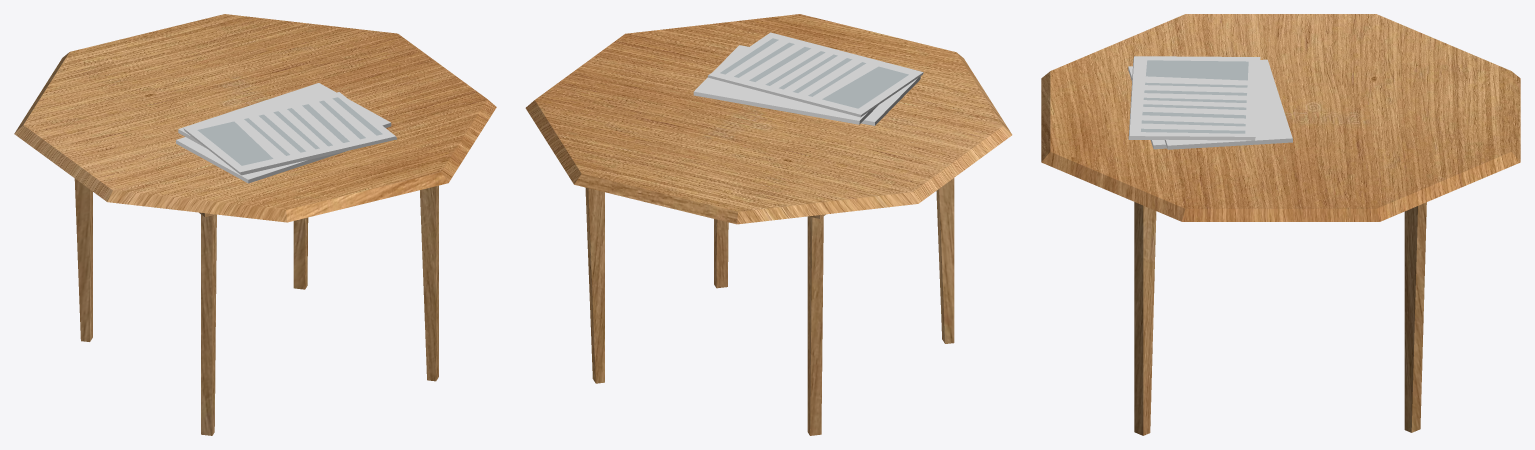
Rendered from papers on a small table.fbx.
The picture shows the model from 3 angles, left to right: view 1: azimuth 30°, elevation 25°; view 2: azimuth 150°, elevation 25°; view 3: azimuth 270°, elevation 25°; orthographic projection. The views are drawn at different scales.
Visible parts, largest first — view 1: model1:model1:papers_on_a_small_table; view 2: model1:model1:papers_on_a_small_table; view 3: model1:model1:papers_on_a_small_table.
Boxes of the visible parts, x1,y1,x2,y2 form: model1:model1:papers_on_a_small_table: (14, 14, 496, 435); model1:model1:papers_on_a_small_table: (525, 14, 1012, 435); model1:model1:papers_on_a_small_table: (1041, 14, 1520, 435).
Size of the model in its own units: 286 by 181 by 286.
3 materials, 1 textured.
